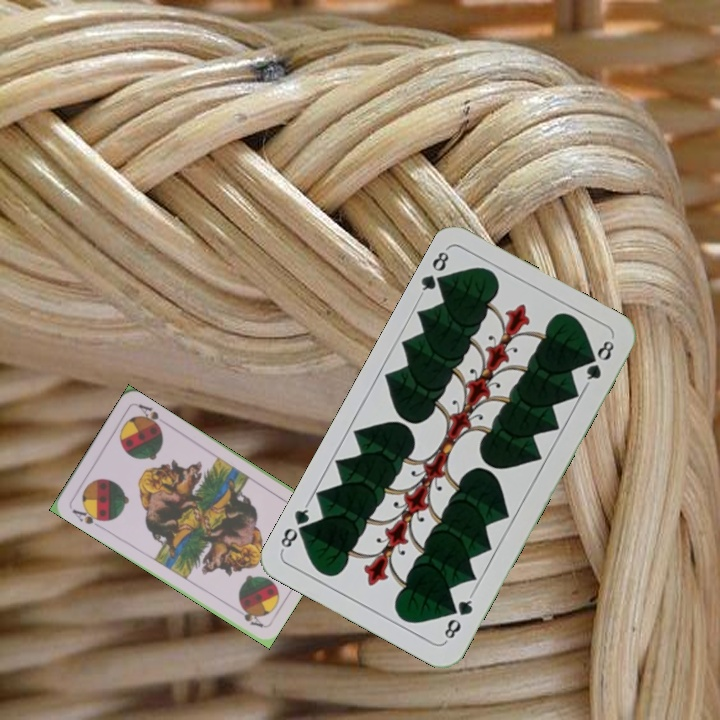G8: (415, 245, 452, 299), (440, 590, 476, 644)
SA: (68, 503, 107, 531)
